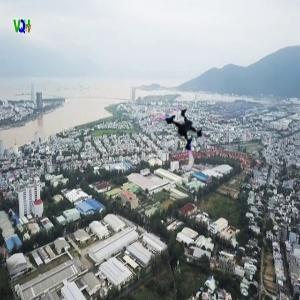drone: (149, 101, 214, 166)
